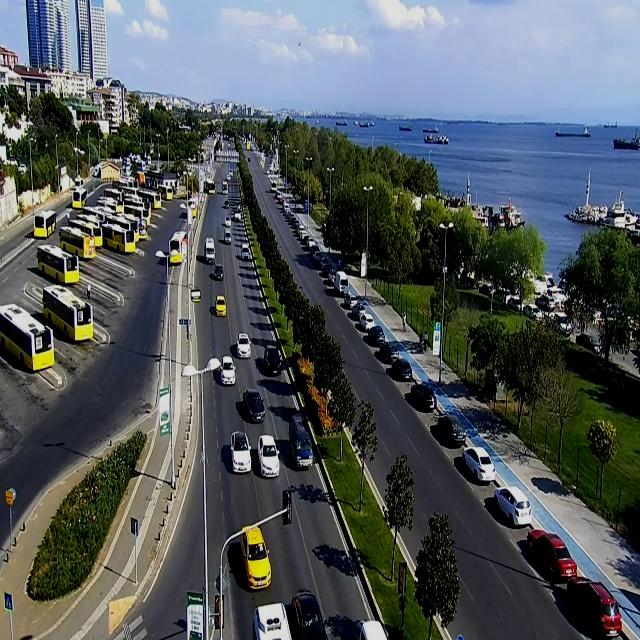Bus: (35, 283, 98, 344), (1, 303, 54, 369), (36, 244, 79, 283), (59, 225, 97, 262), (104, 220, 139, 254), (77, 215, 105, 247), (122, 198, 149, 225), (33, 210, 57, 238), (118, 186, 144, 211), (83, 206, 110, 230), (170, 231, 188, 263), (136, 188, 160, 211), (104, 187, 125, 209), (157, 182, 175, 200), (72, 184, 86, 207), (188, 198, 198, 215), (136, 171, 146, 187), (204, 180, 215, 194), (74, 177, 84, 188), (222, 182, 228, 194), (270, 182, 277, 192)
Car: (566, 578, 621, 636), (528, 529, 576, 580), (239, 526, 272, 590), (292, 590, 326, 639), (253, 432, 285, 482), (494, 486, 534, 526), (253, 602, 293, 640), (289, 414, 315, 468), (462, 448, 495, 482), (438, 414, 468, 445), (230, 430, 252, 472), (410, 383, 438, 409), (244, 388, 266, 421), (263, 347, 283, 374), (391, 357, 413, 381), (378, 341, 402, 363), (220, 356, 237, 384), (366, 325, 386, 346), (236, 332, 252, 358), (357, 310, 374, 330), (343, 292, 358, 310), (214, 296, 227, 316), (311, 247, 324, 264), (205, 237, 215, 259), (318, 255, 330, 271), (212, 265, 224, 280), (241, 244, 251, 261), (224, 229, 232, 243), (233, 212, 242, 222), (224, 216, 232, 226)
